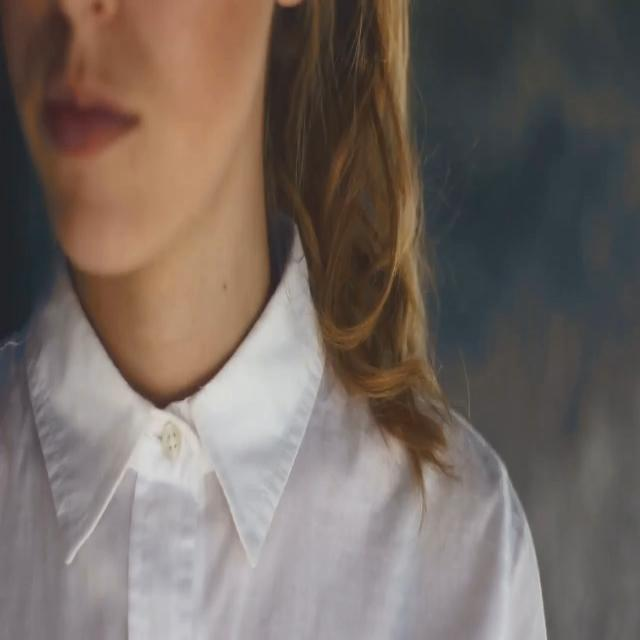shirt: (0, 195, 548, 640)
